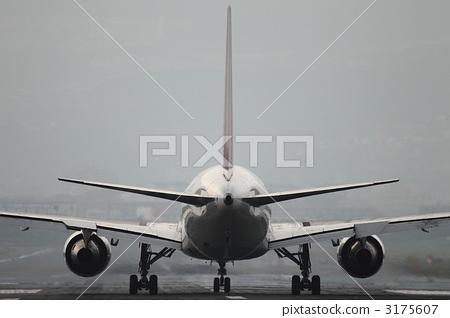airplane: (1, 161, 450, 295)
